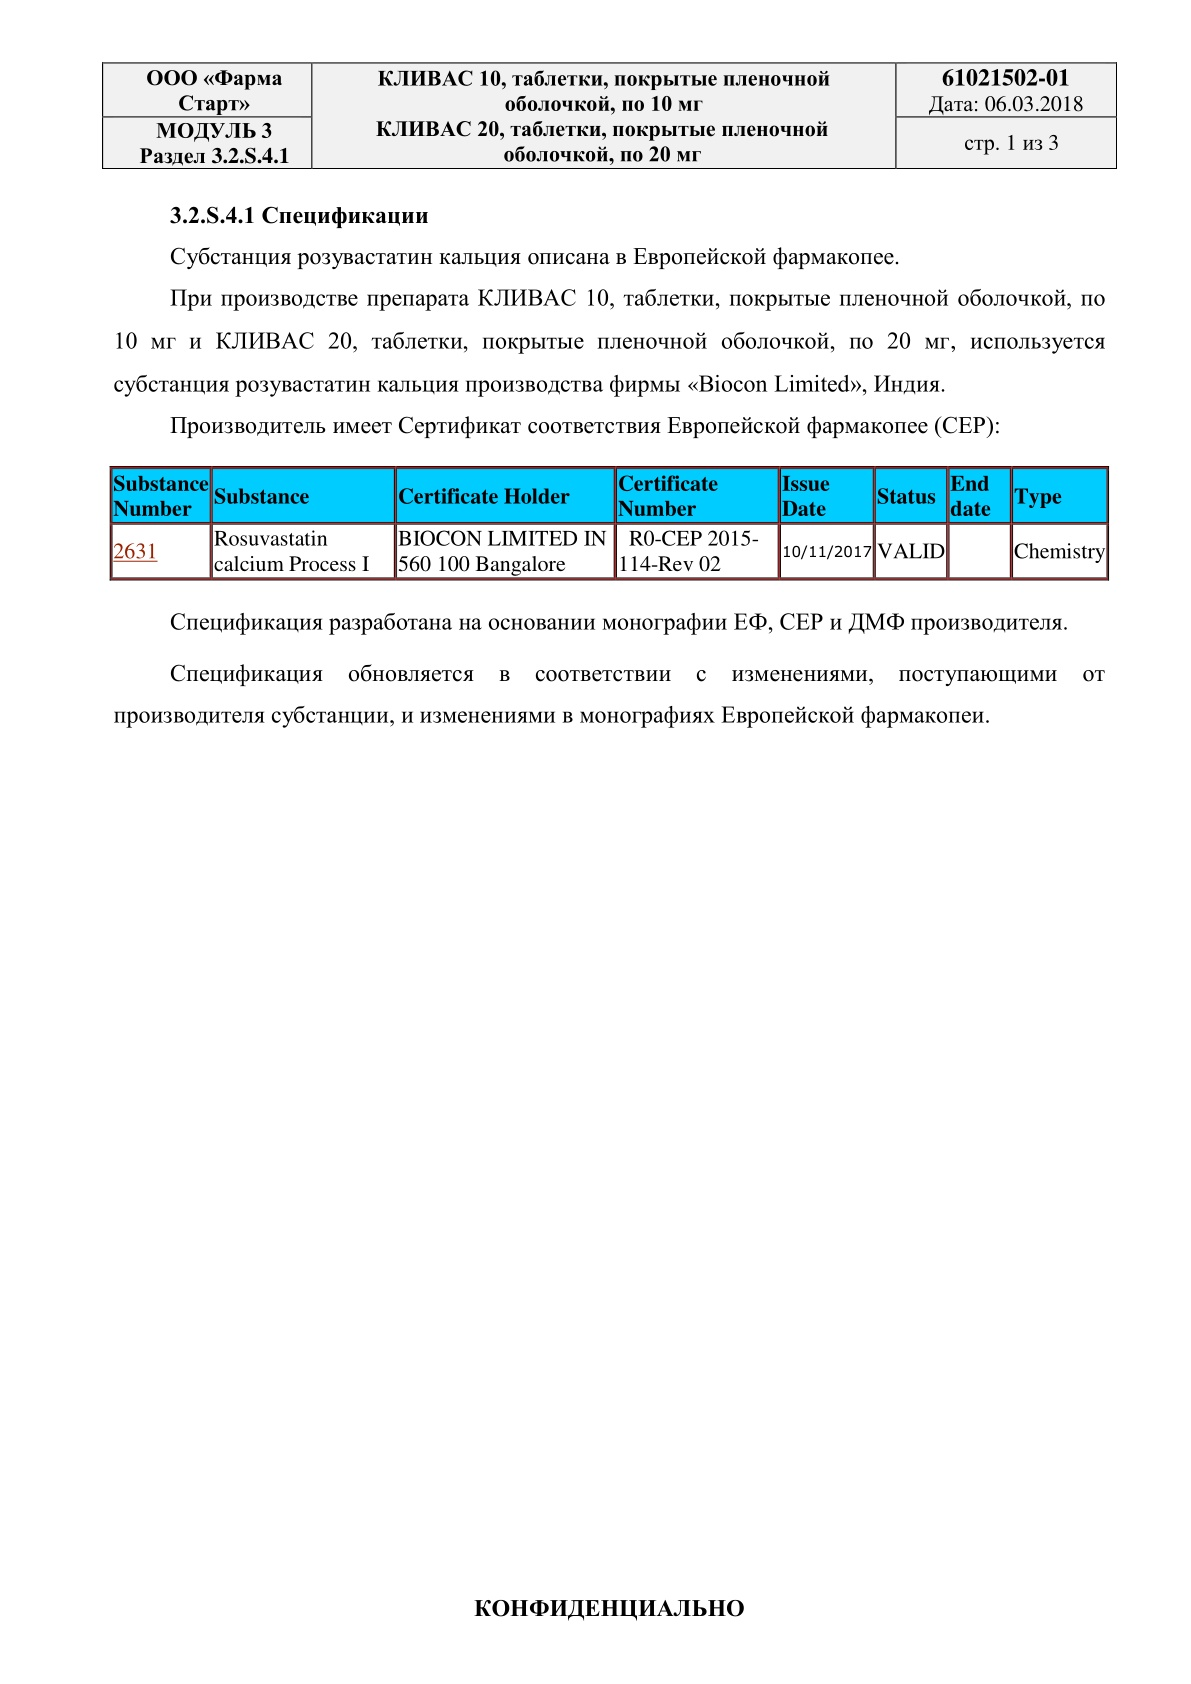full_lined: (110, 464, 1110, 582)
merged_cells: (101, 62, 1118, 169)
